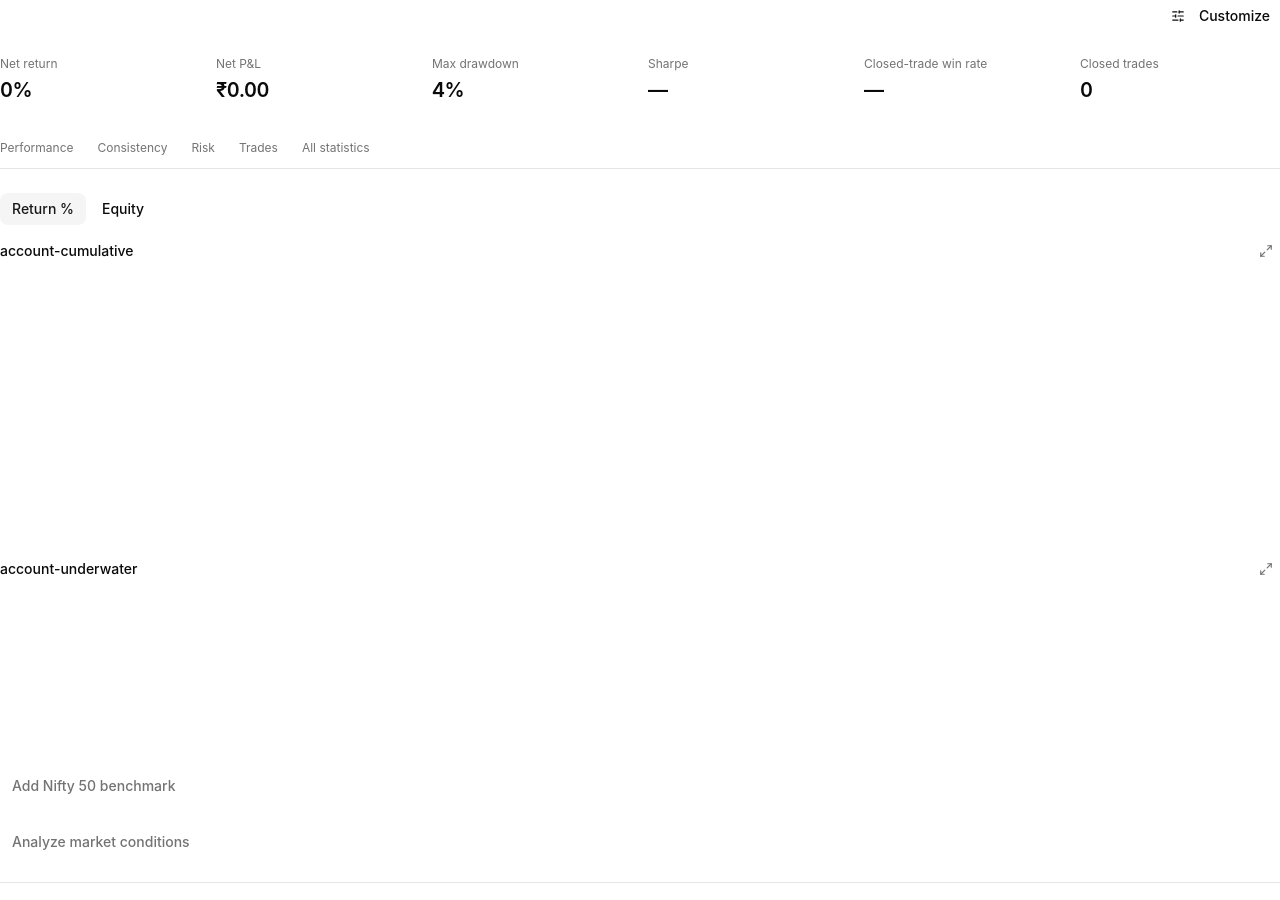
continuous portfolio report › does not replace the visible choices when applying preferences fails
The width and height of the screenshot is (1280, 900).
Click the button "Customize". click: {"x": 1220, "y": 16}
box: [1161,0,1279,32]
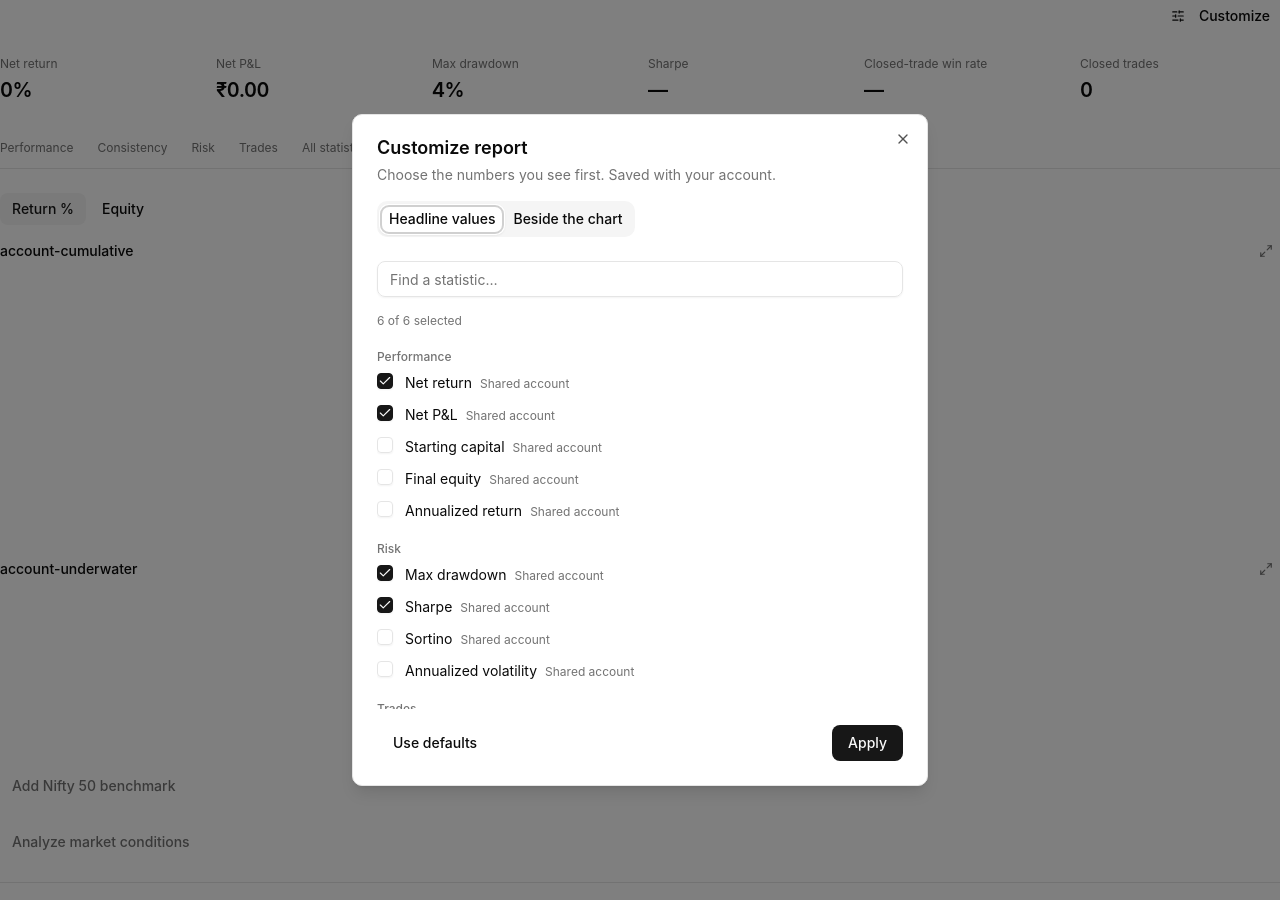
Click the checkbox named "Sharpe · Shared account". click: {"x": 385, "y": 605}
box: [377,597,393,613]
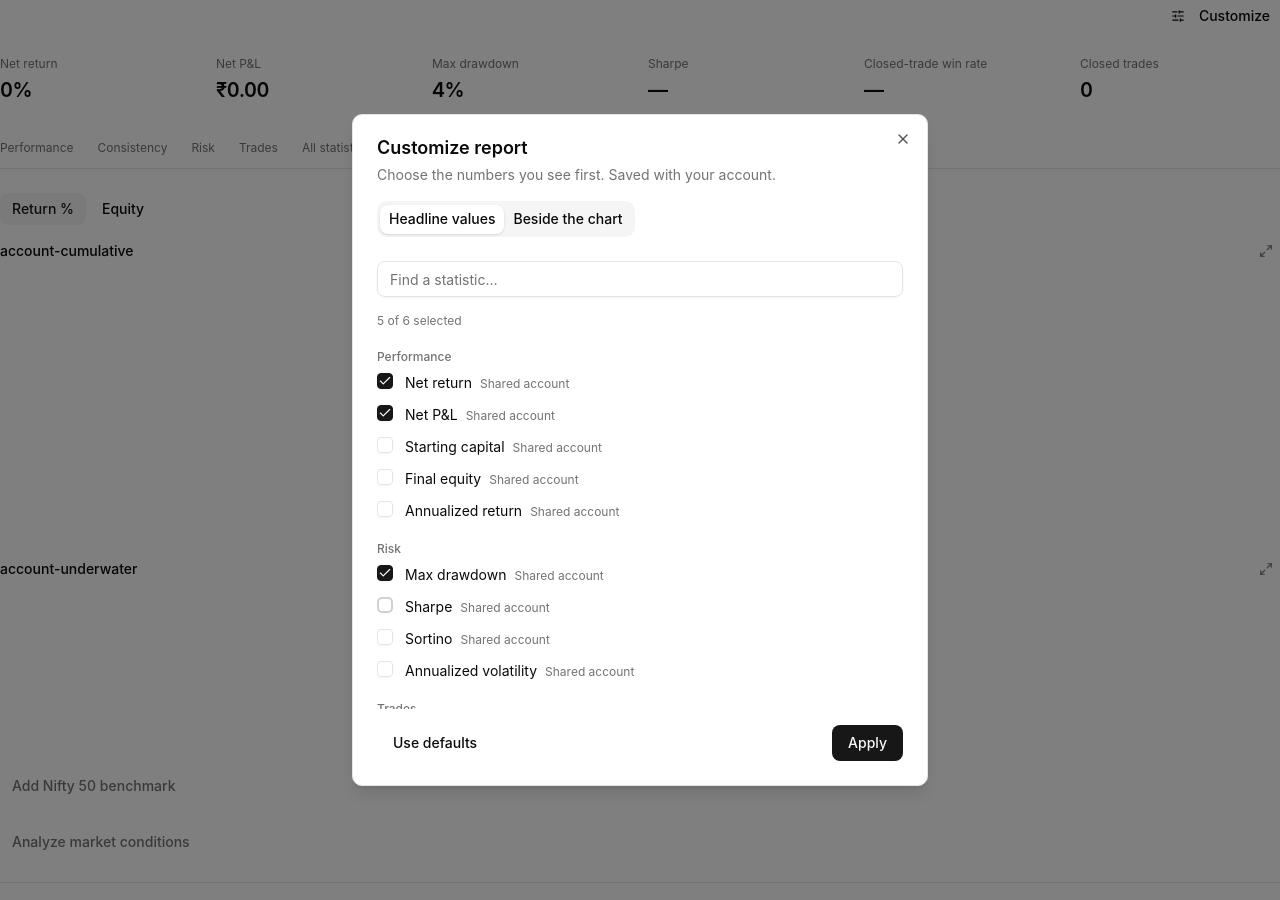
Click the button "Apply". click: {"x": 868, "y": 743}
box: [832,725,903,761]
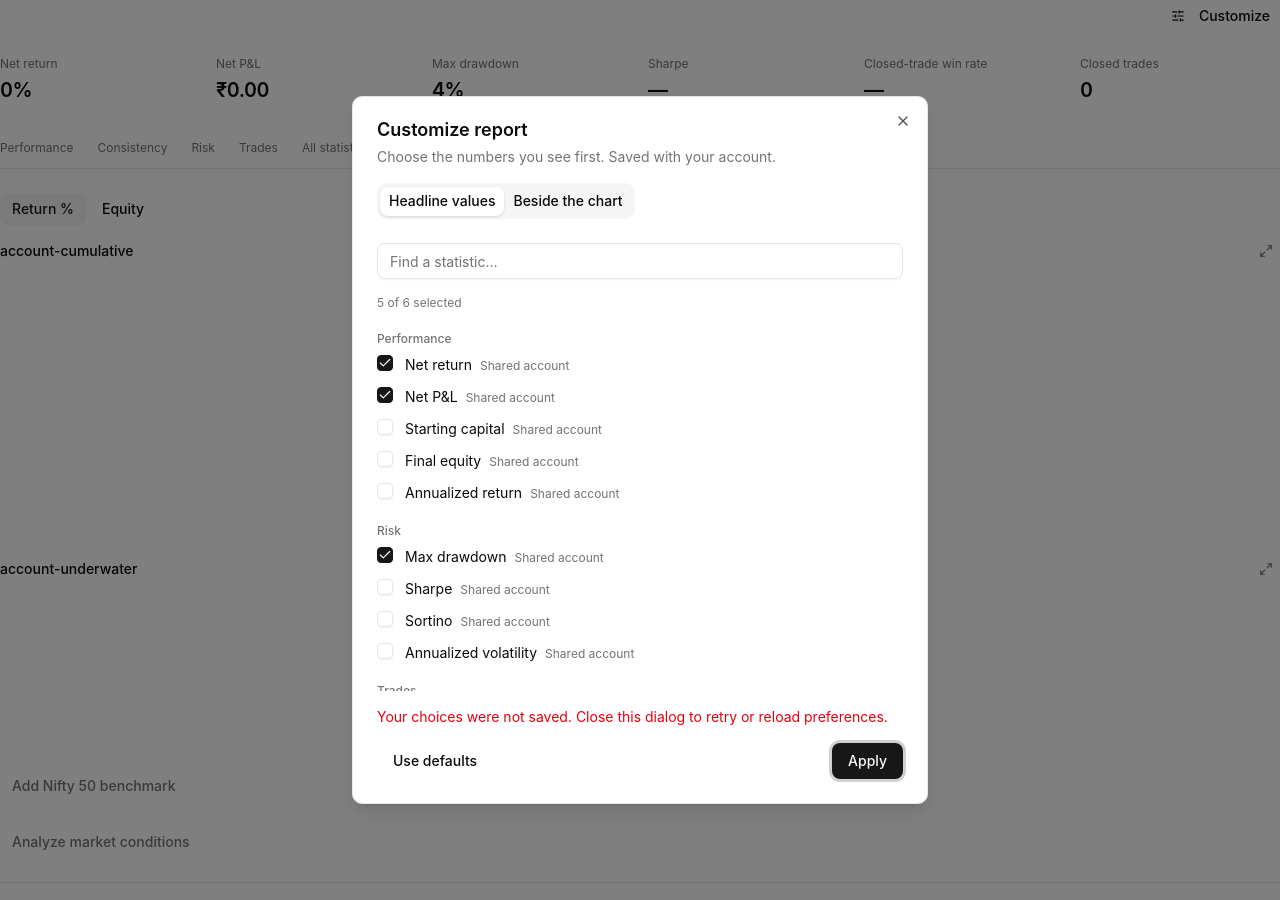
Result: the dialog is shown at [352,96,928,804]
Result: the message shows "not saved" at [377,708,888,725]
